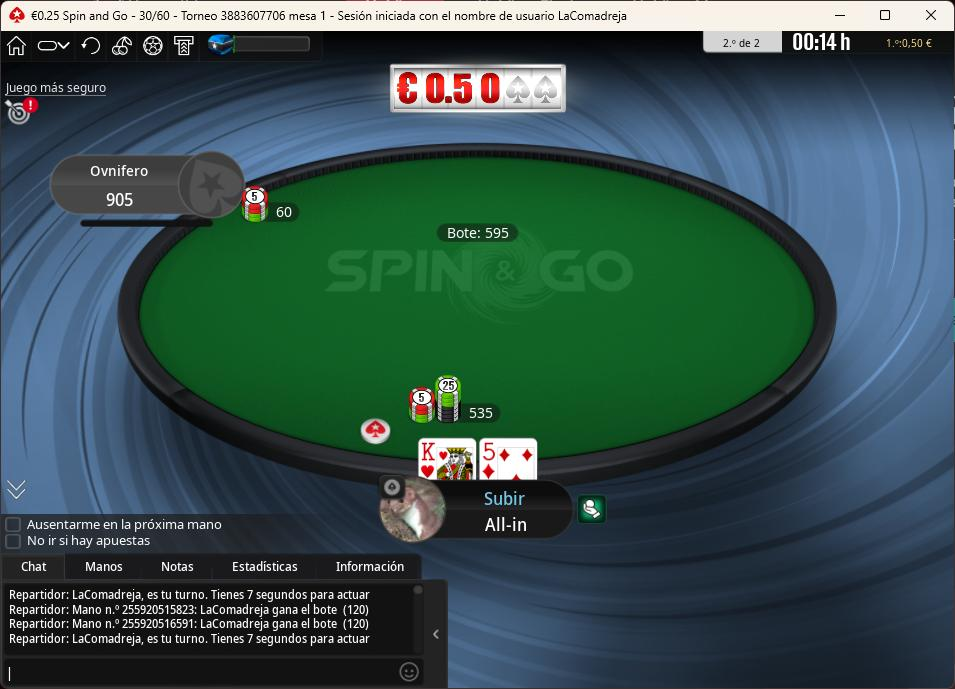Dealer: (361, 416, 396, 444)
Player: (48, 151, 243, 219)
PlayerBet: (247, 180, 297, 233)
PlayerChips: (479, 516, 538, 537), (98, 192, 142, 210)
Pot: (436, 219, 521, 246)
PrincipalBet: (402, 372, 509, 428)
PrincipalCards: (418, 440, 541, 479)
PrincipalCards1: (414, 435, 479, 483)
PrincipalCards2: (479, 436, 542, 482)
PrincipalPlayer: (378, 475, 576, 541)
SmallBigBlind: (127, 5, 183, 27)
